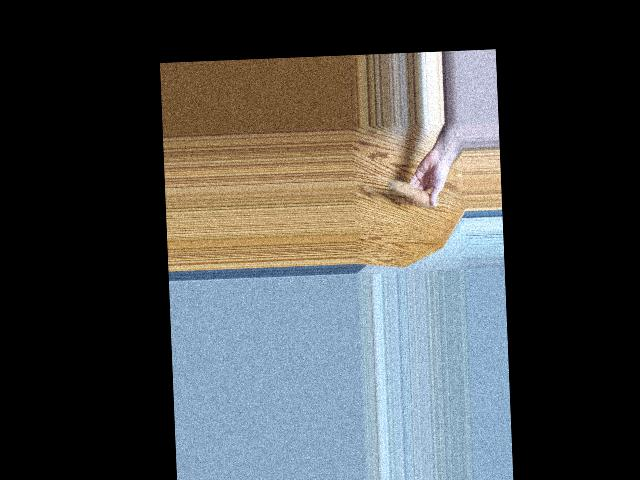sweet_potato: (386, 173, 439, 210)
